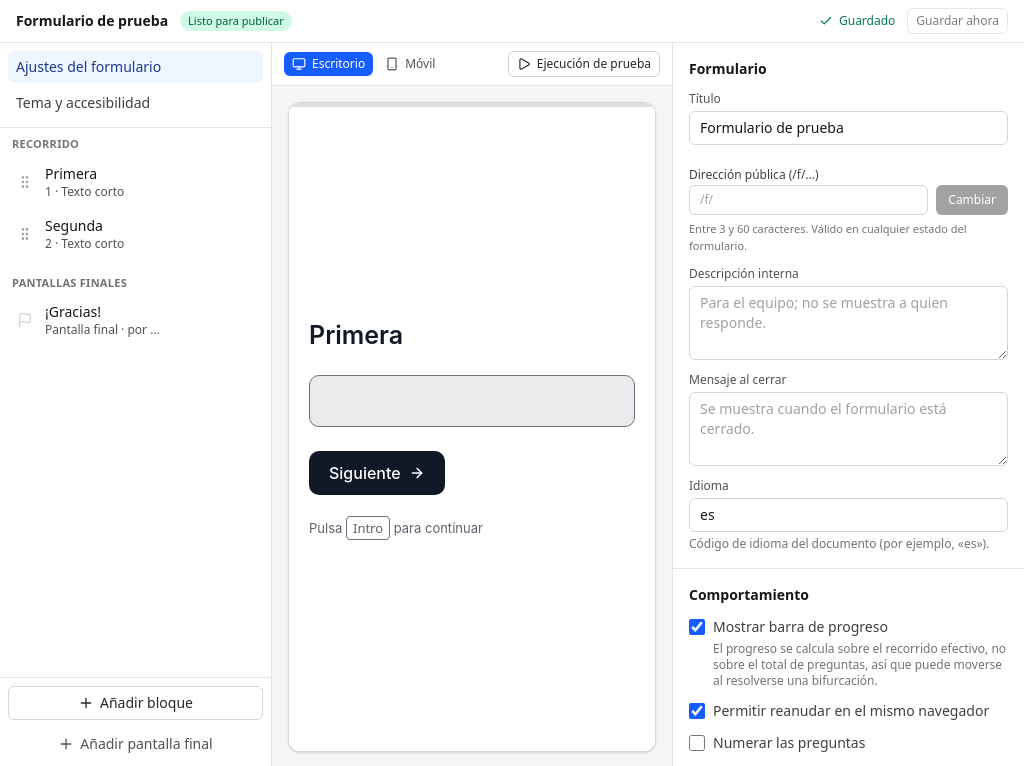
it: construir un formulario › la ejecución de prueba avisa, arranca desde el principio y no guarda respuestas
The width and height of the screenshot is (1036, 766).
Note: Se parte de la segunda pantalla para comprobar que la prueba no la hereda.
Click the button "Segunda 2 · Texto corto" at point(88, 234), box [41,214,134,254]
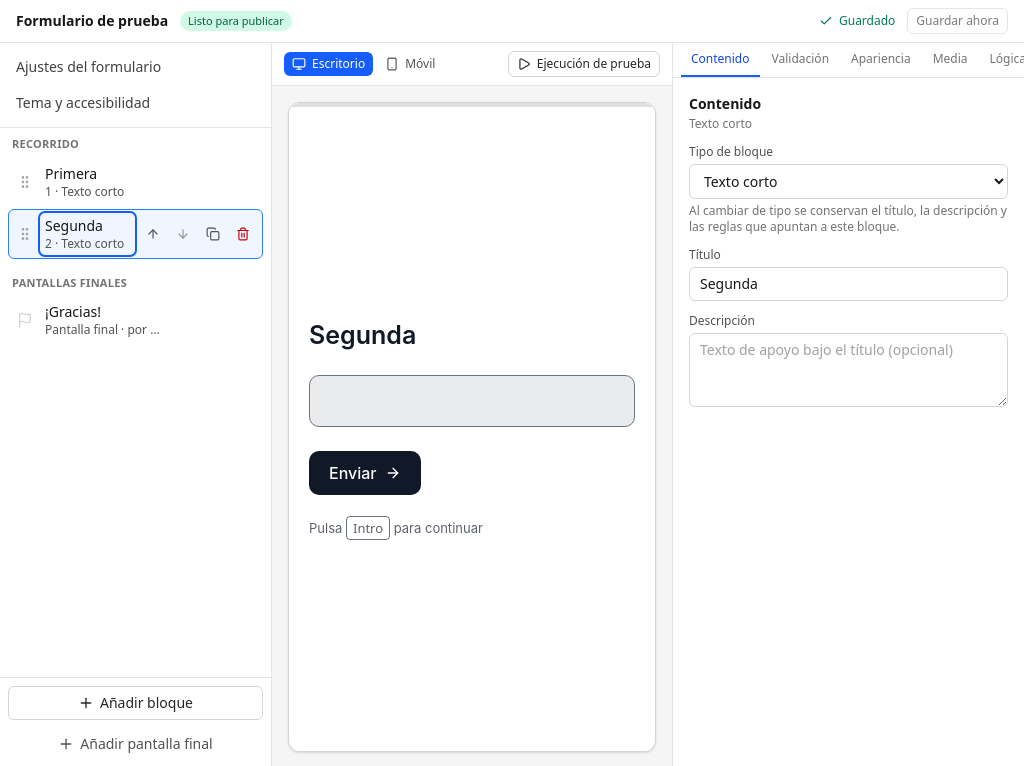
Click the button "Ejecución de prueba" at point(584, 64), box [508,51,660,77]
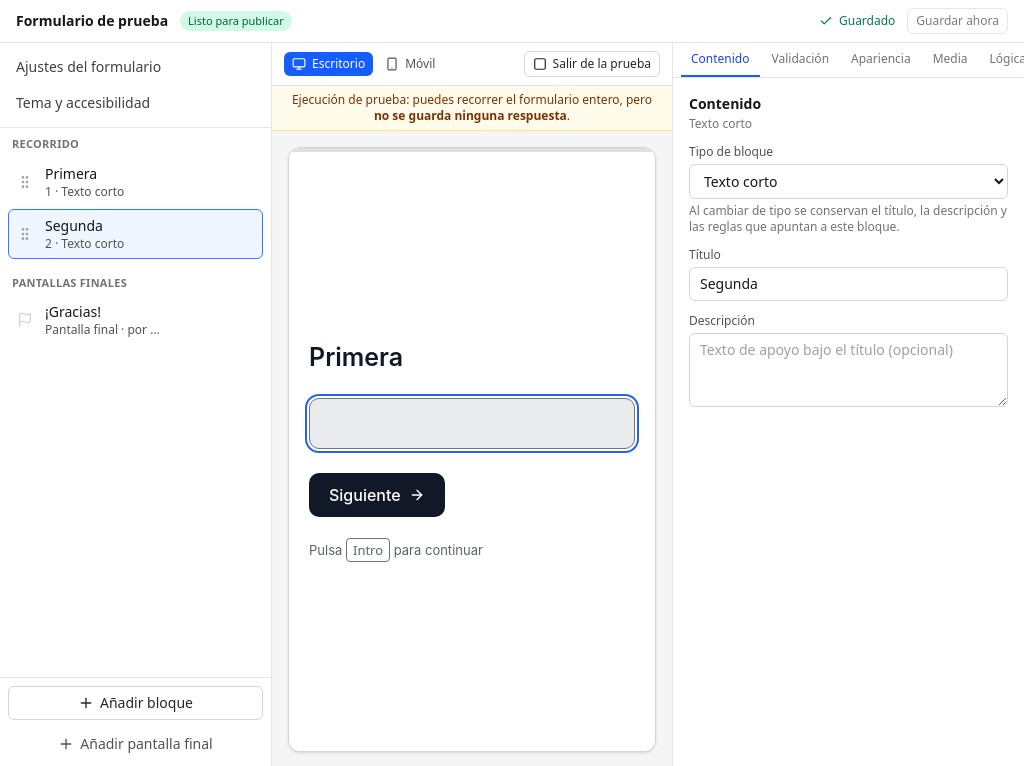
Expected: the text "Primera" is shown, [45,164,97,184]
Now the text "no se guarda ninguna respuesta" is shown, box [374,107,567,124]
Type "Ana" into the field labelled "Primera" at point(472, 423), box [309,398,635,449]
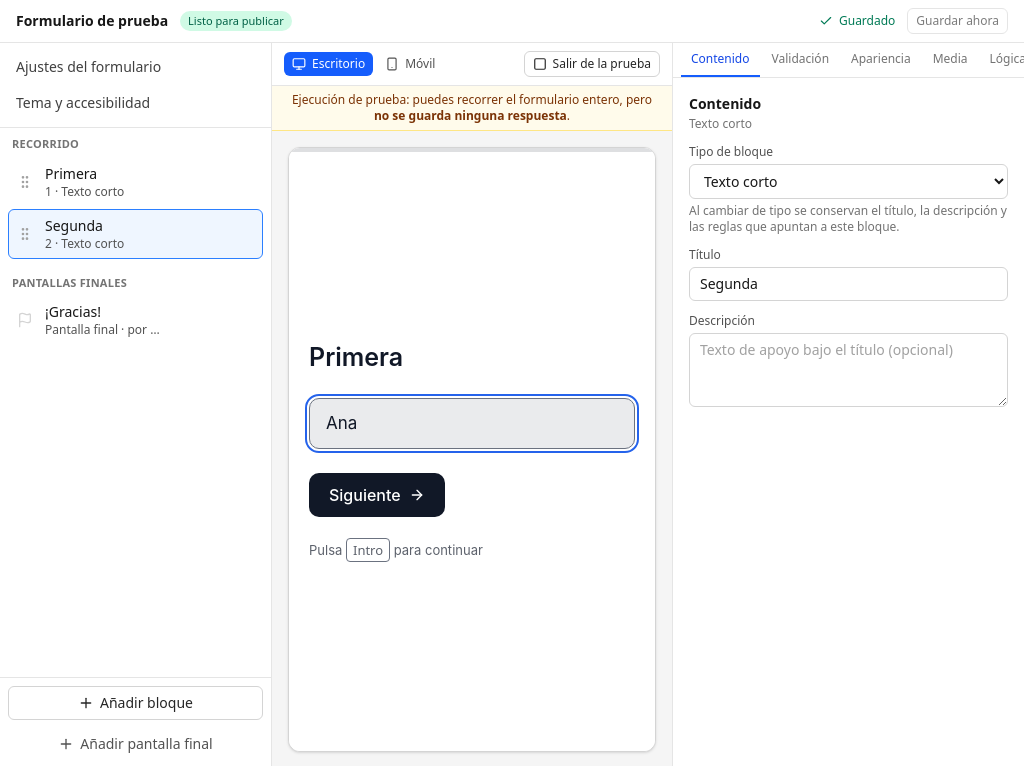
Click the button "Siguiente" at point(377, 495), box [309,473,445,517]
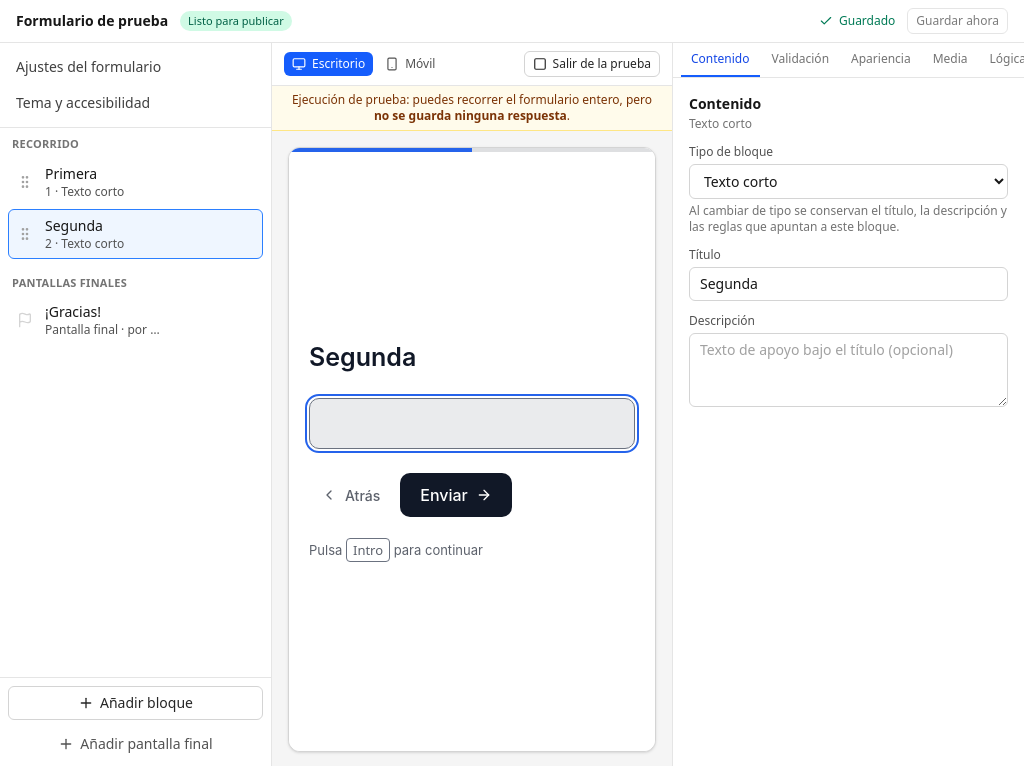
Expected: the text "Segunda" is shown, [45,216,103,236]
Click the button "Salir de la prueba" at point(592, 64), box [524,51,660,77]
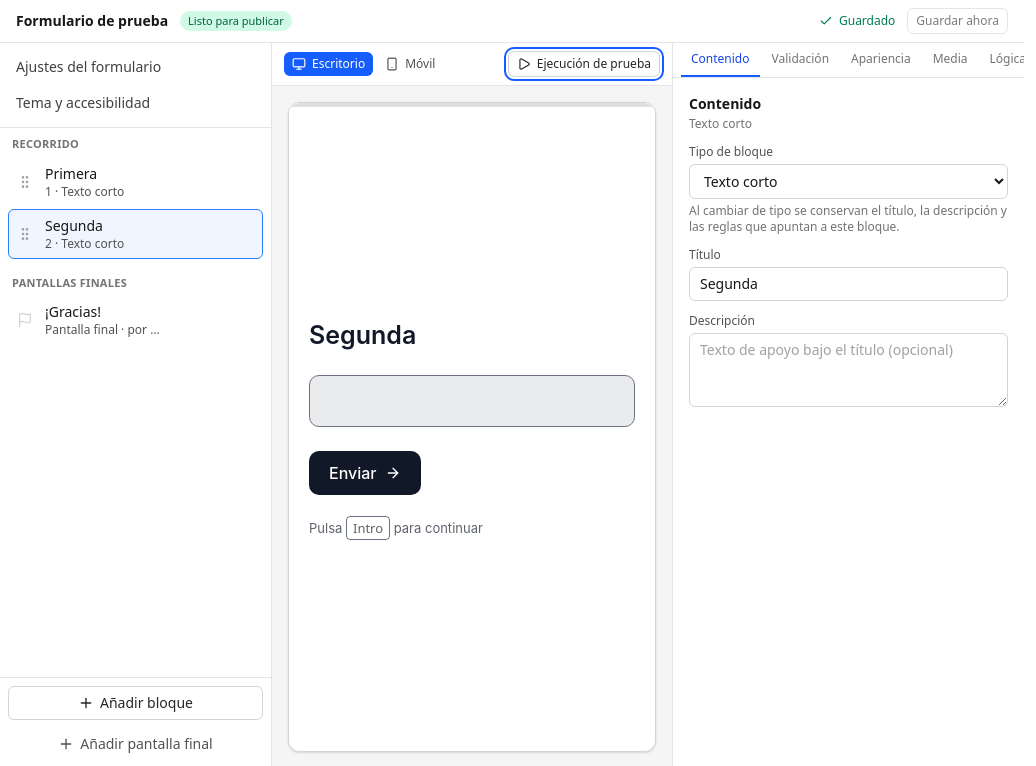
Now the text "no se guarda ninguna respuesta" is gone
